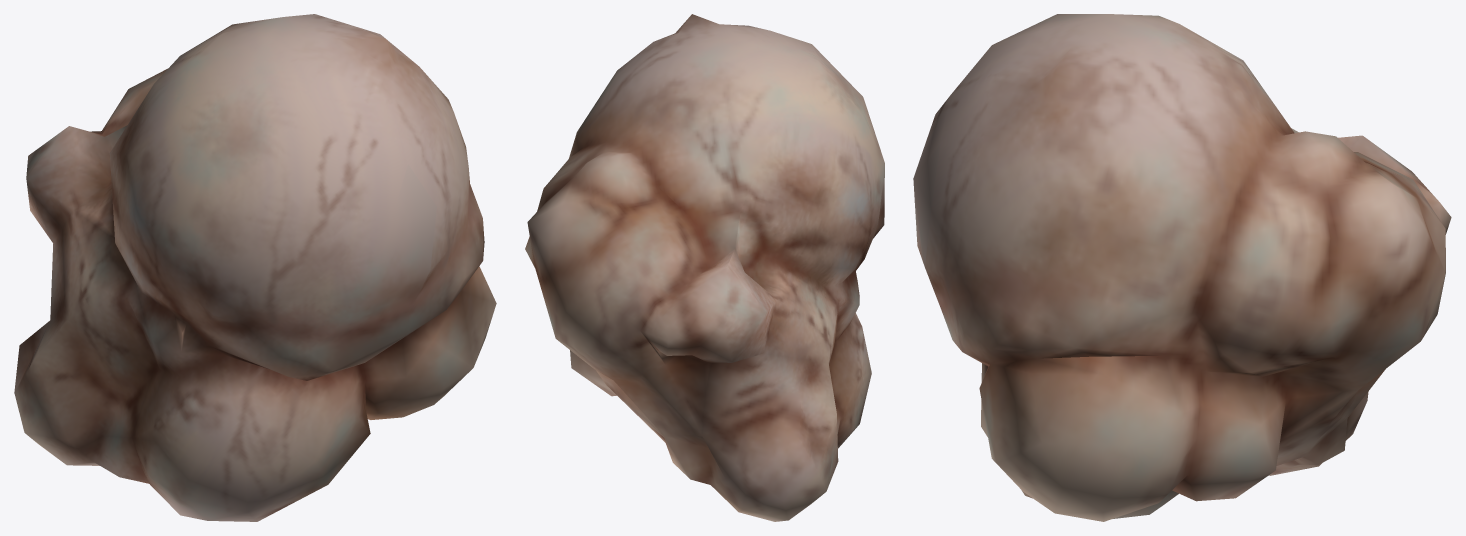
File: banshira_growth_03.fbx
The picture shows the model from 3 angles, left to right: view 1: azimuth 30°, elevation 25°; view 2: azimuth 150°, elevation 25°; view 3: azimuth 270°, elevation 25°; orthographic projection. The views are drawn at different scales.
Parts seen in each view (by area): view 1: Banshira_Growth_03; view 2: Banshira_Growth_03; view 3: Banshira_Growth_03.
Part boxes in pixels (x1,y1,x2,y2): Banshira_Growth_03: (14, 14, 496, 521); Banshira_Growth_03: (525, 14, 884, 521); Banshira_Growth_03: (913, 14, 1451, 521).
Bounding box in the file's own units: 130 × 160 × 150.
